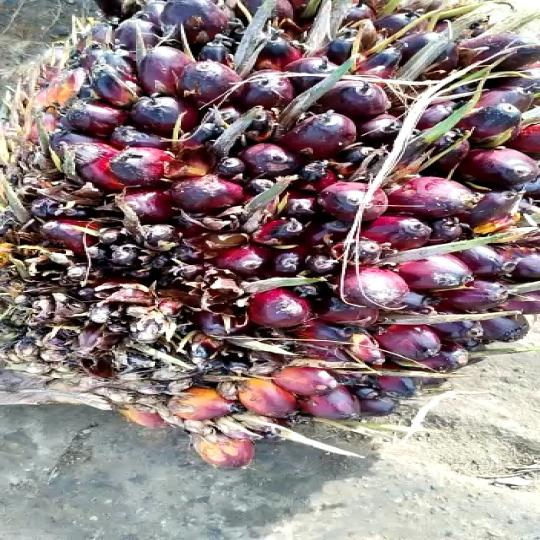masak: (0, 0, 540, 474)
